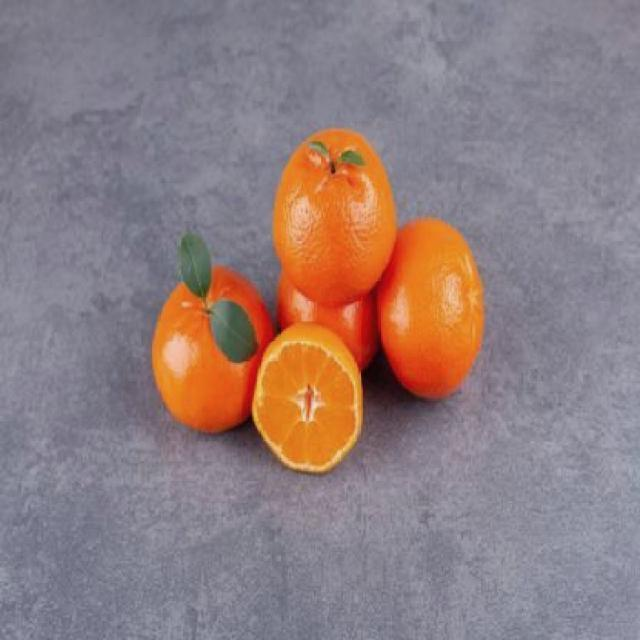Jeruk Sudah Matang: (274, 133, 394, 309), (154, 267, 276, 433), (376, 216, 486, 396), (269, 244, 382, 384)
